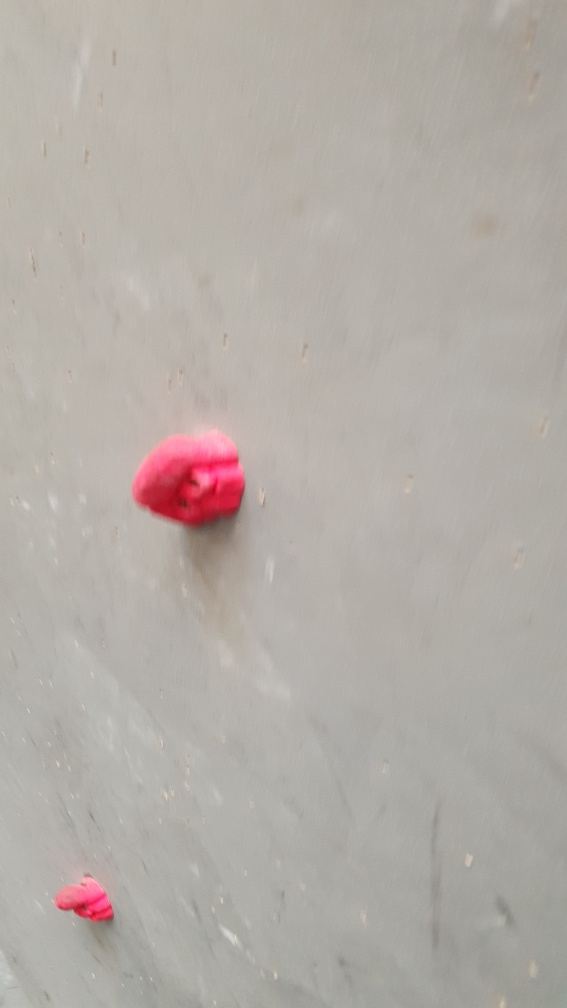Jug: (129, 425, 249, 534), (54, 870, 110, 925)
